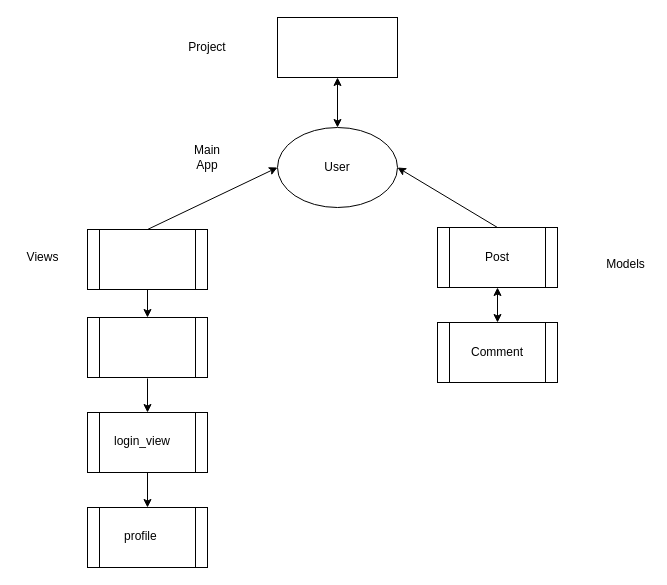
Image size: 667x585. Some labels were removed from this diagram. Here are the shapes that lost their labels. From the top down, the centre of each, then its label:
point 337,47: Campfire
point 147,259: feed
point 147,347: register
